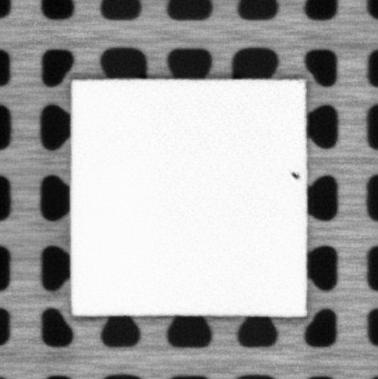DIE_INK: (289, 169, 301, 181)
